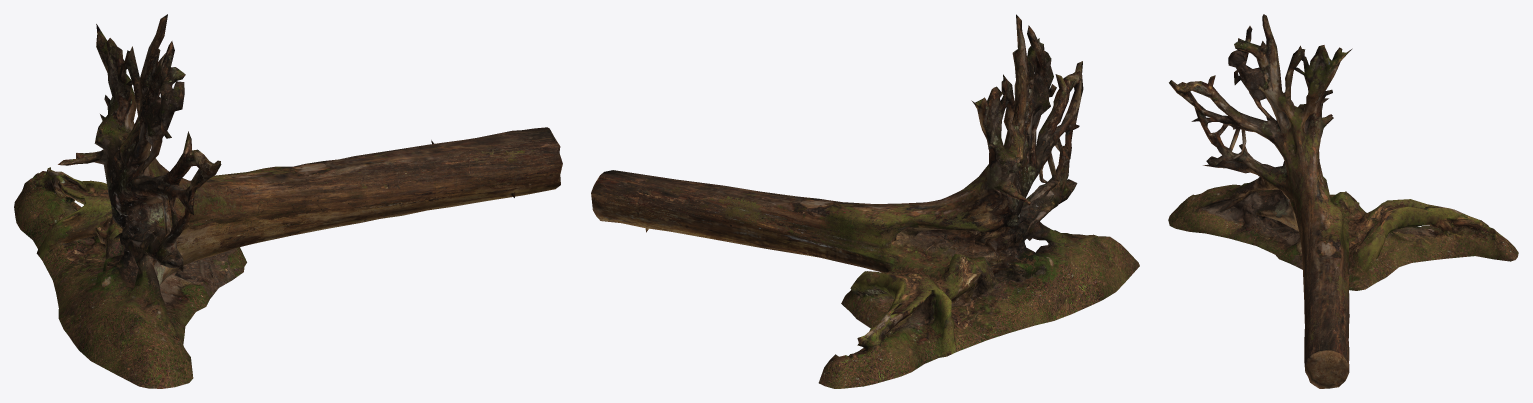
The model's file is nordic_forest_tree_uprooted_medium_xiciaat_mid.glb.
The picture shows the model from 3 angles, left to right: view 1: azimuth 30°, elevation 25°; view 2: azimuth 150°, elevation 25°; view 3: azimuth 270°, elevation 25°; orthographic projection. The views are drawn at different scales.
Visible parts, largest first — view 1: xiciaat_LOD0_TIER2_000; view 2: xiciaat_LOD0_TIER2_000; view 3: xiciaat_LOD0_TIER2_000.
Boxes of the visible parts, x1=… form: xiciaat_LOD0_TIER2_000: x1=14, y1=14, x2=562, y2=388; xiciaat_LOD0_TIER2_000: x1=591, y1=14, x2=1139, y2=388; xiciaat_LOD0_TIER2_000: x1=1168, y1=14, x2=1518, y2=388.
Size of the model in its own units: 3.9 by 2.21 by 3.07.
1 material, 1 textured.
